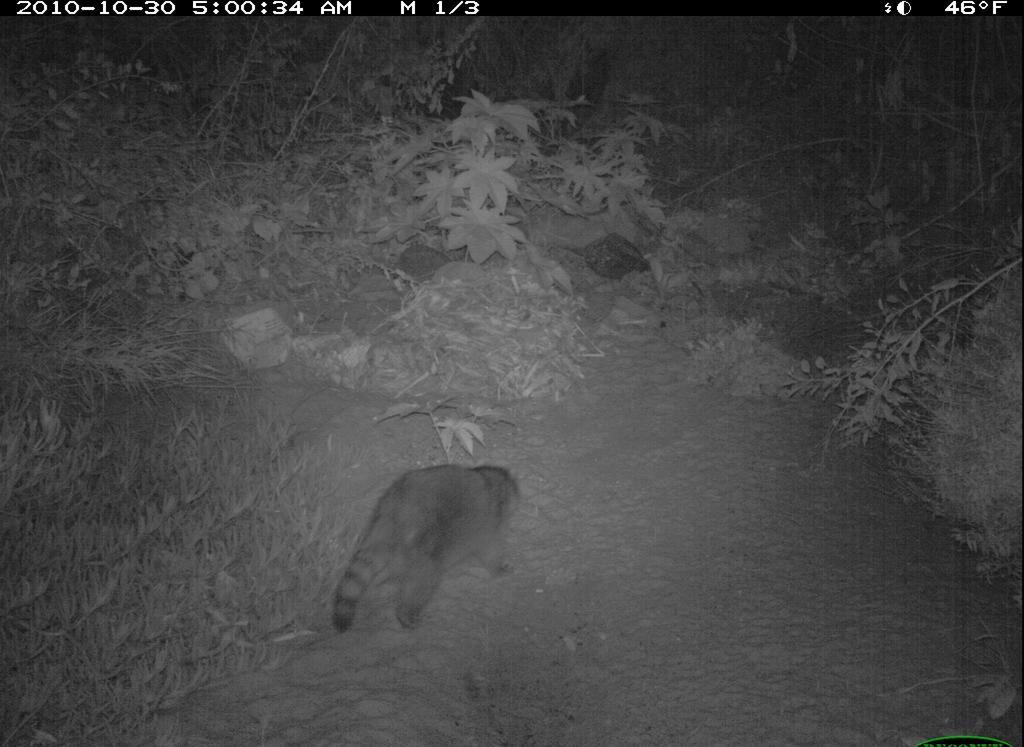raccoon: (319, 442, 533, 644)
